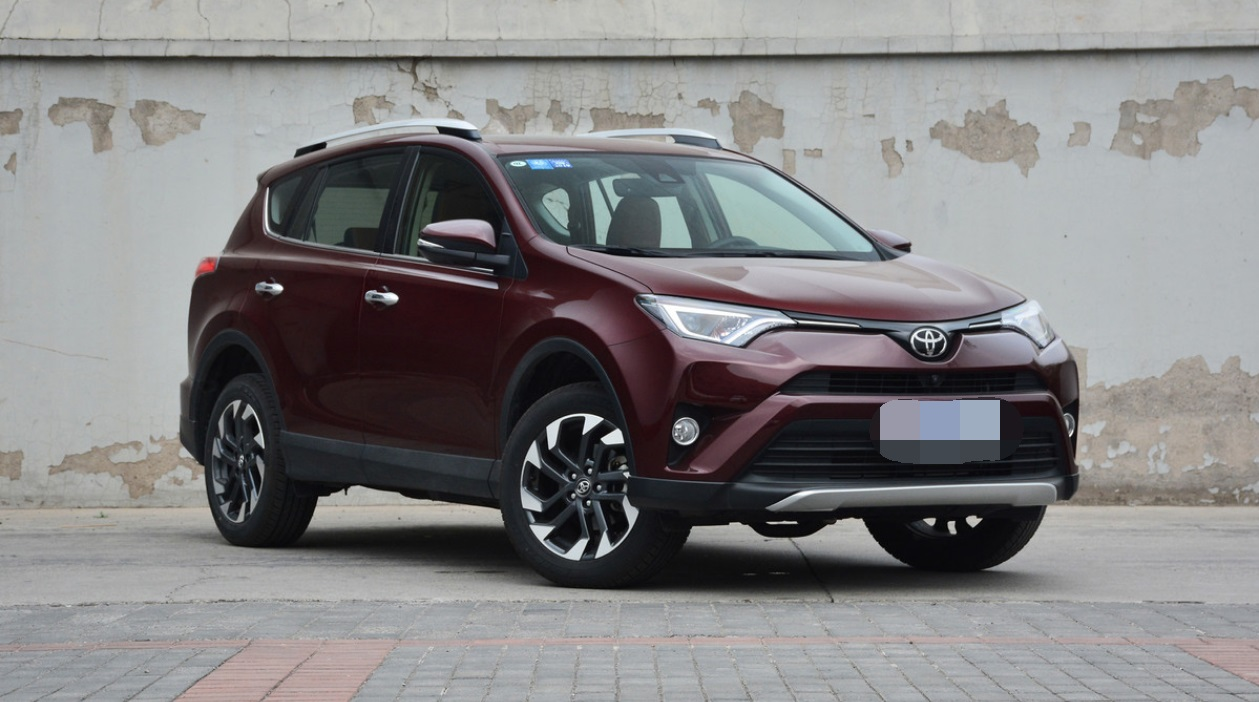SUV: (181, 118, 1085, 590)
